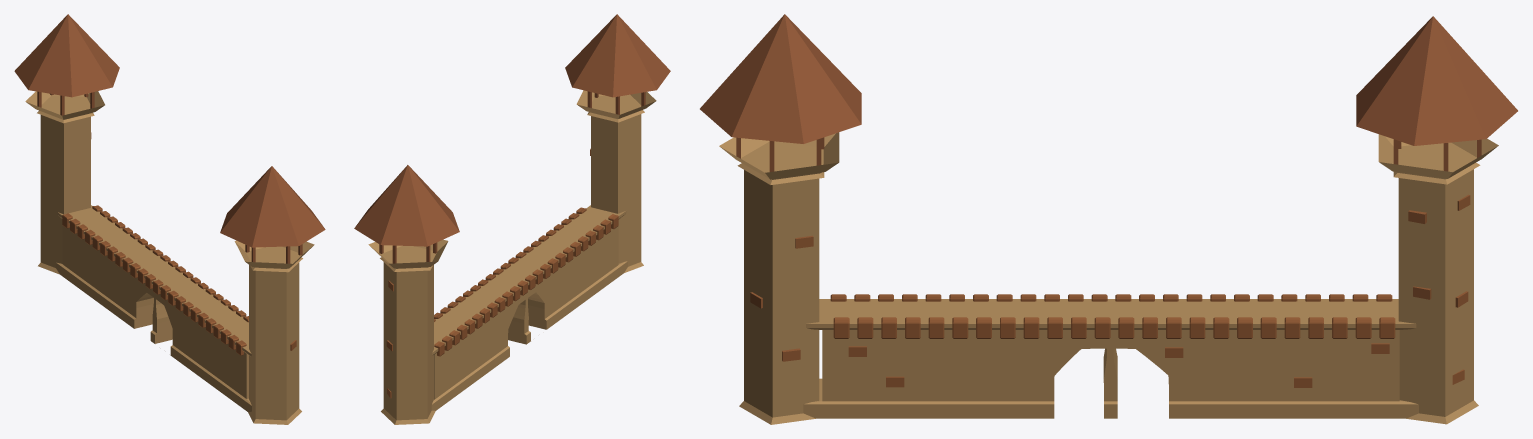
File: FrontWall.fbx
3 views of the same model, side by side, from view 1: azimuth 30°, elevation 25°; view 2: azimuth 150°, elevation 25°; view 3: azimuth 270°, elevation 25° (orthographic). The views are drawn at different scales.
Parts seen in each view (by area): view 1: Cube.003; view 2: Cube.003; view 3: Cube.003.
Boxes of the visible parts, x1,y1,x2,y2 form: Cube.003: [14, 14, 325, 424]; Cube.003: [354, 14, 670, 424]; Cube.003: [700, 14, 1517, 424].
Bounding box in the file's own units: 2162 × 5455 × 10357.
